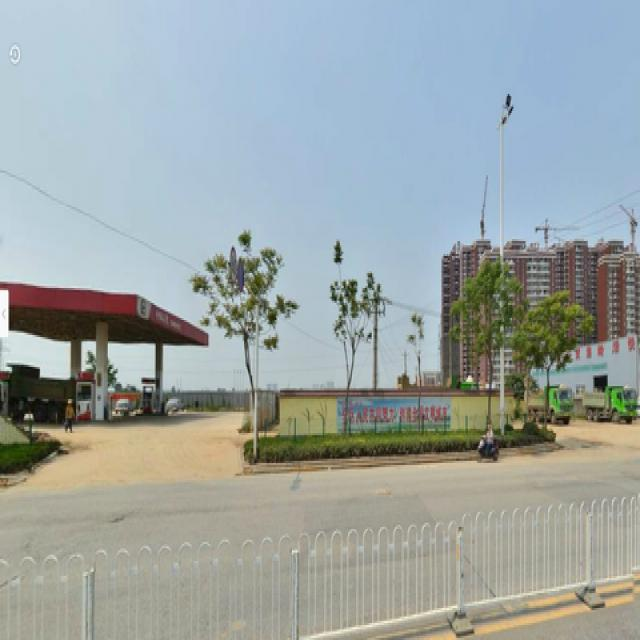koel: (222, 248, 266, 410), (471, 265, 500, 403), (344, 279, 367, 431), (536, 296, 559, 422)
